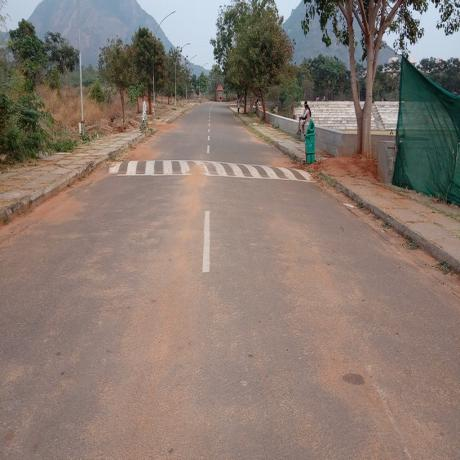Speed Bump: (104, 158, 317, 181)
